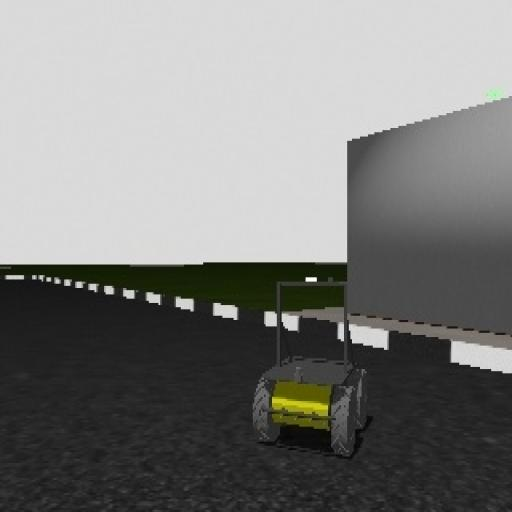huskya200: (246, 268, 378, 464)
